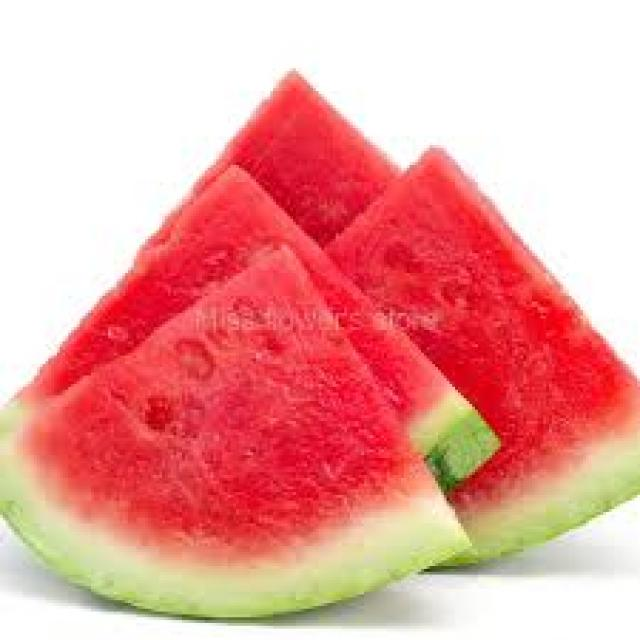organic waste: (3, 239, 472, 609), (3, 160, 498, 490), (37, 66, 398, 467), (319, 142, 637, 569)
